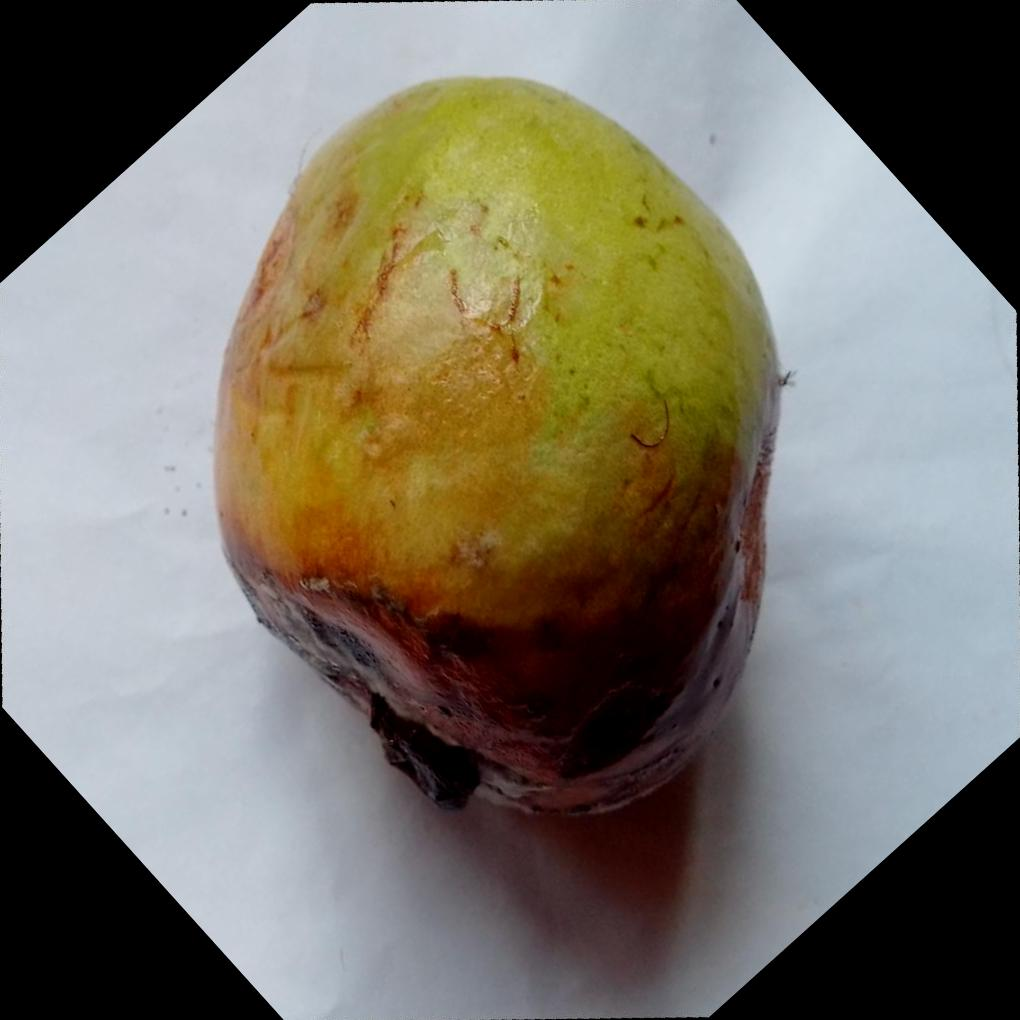FreshOrange: (207, 75, 783, 822)
